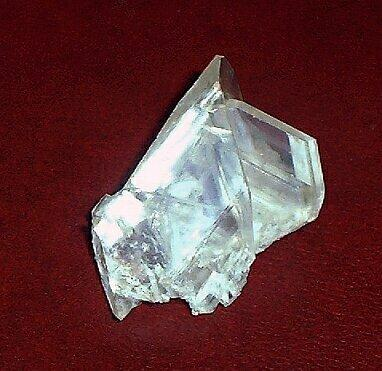gypsum: (92, 56, 326, 320)
